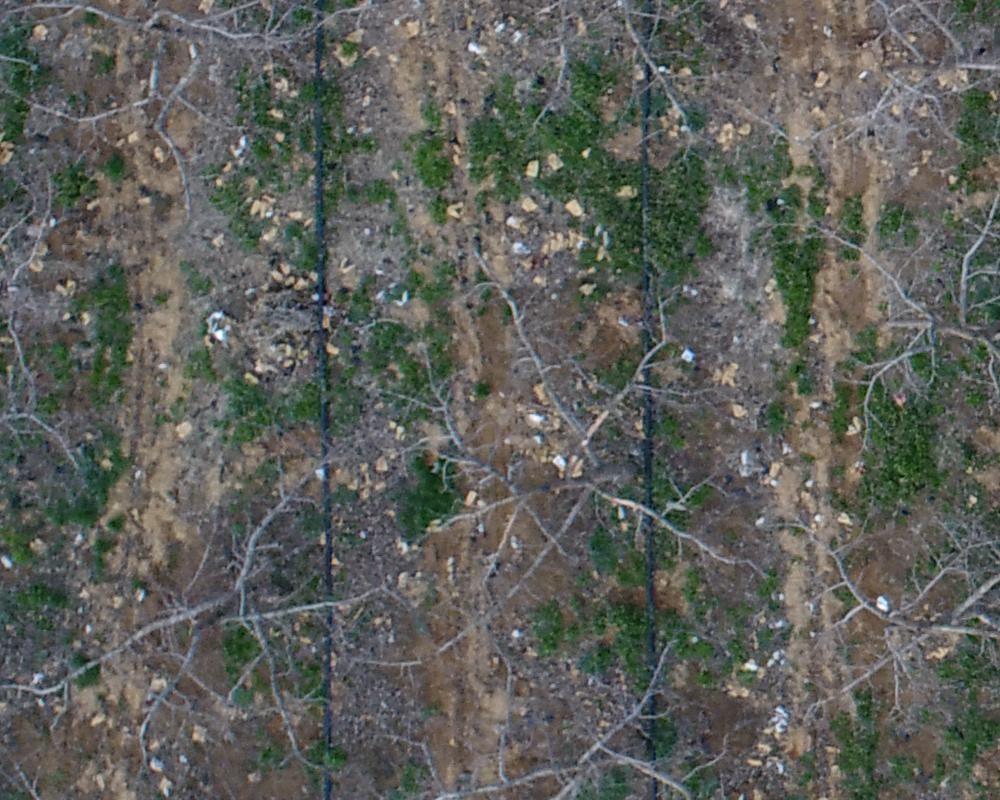apple: (359, 242, 776, 655), (10, 477, 440, 790), (10, 10, 388, 221), (776, 177, 990, 513), (369, 639, 829, 790), (768, 503, 990, 777)
